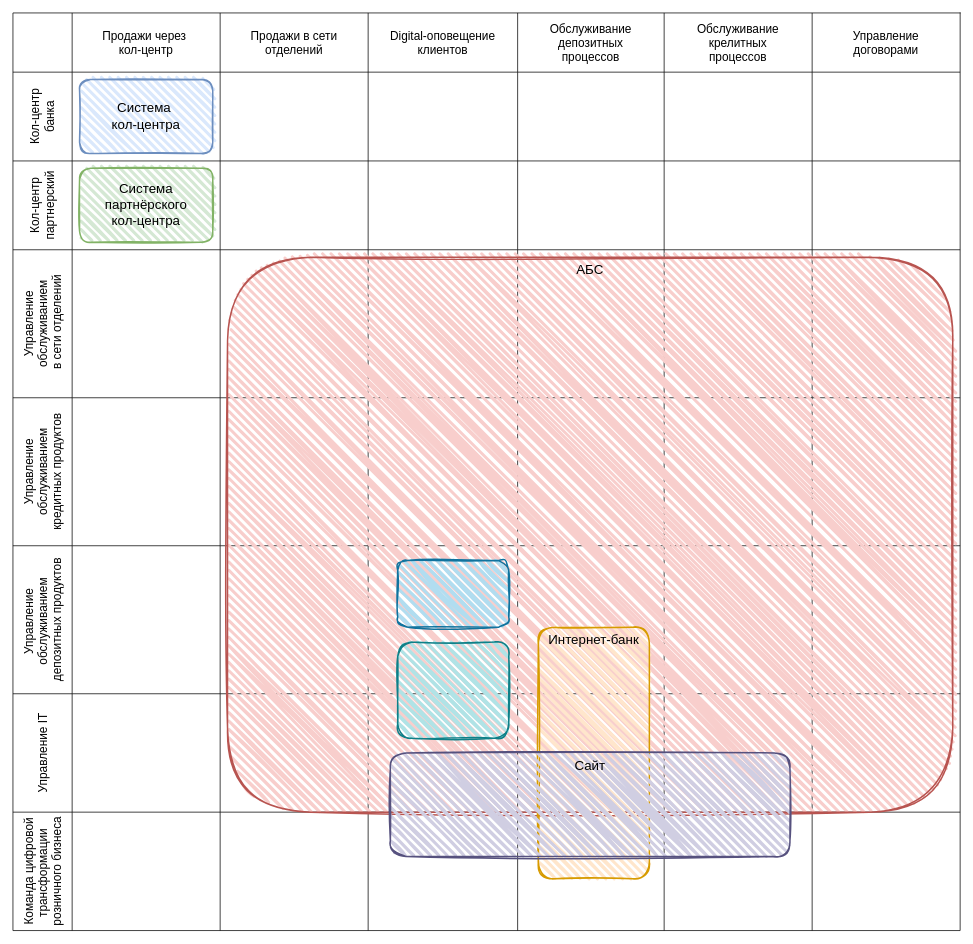
Image size: 973x944. Some labels were removed from this diagram. The shapes that lost their labels are listed below. From the top down, each one's centre as x and y in pixels, then its label:
(453,593): Телеком-оператор
(453,690): СМС-шлюз телеком-оператора
